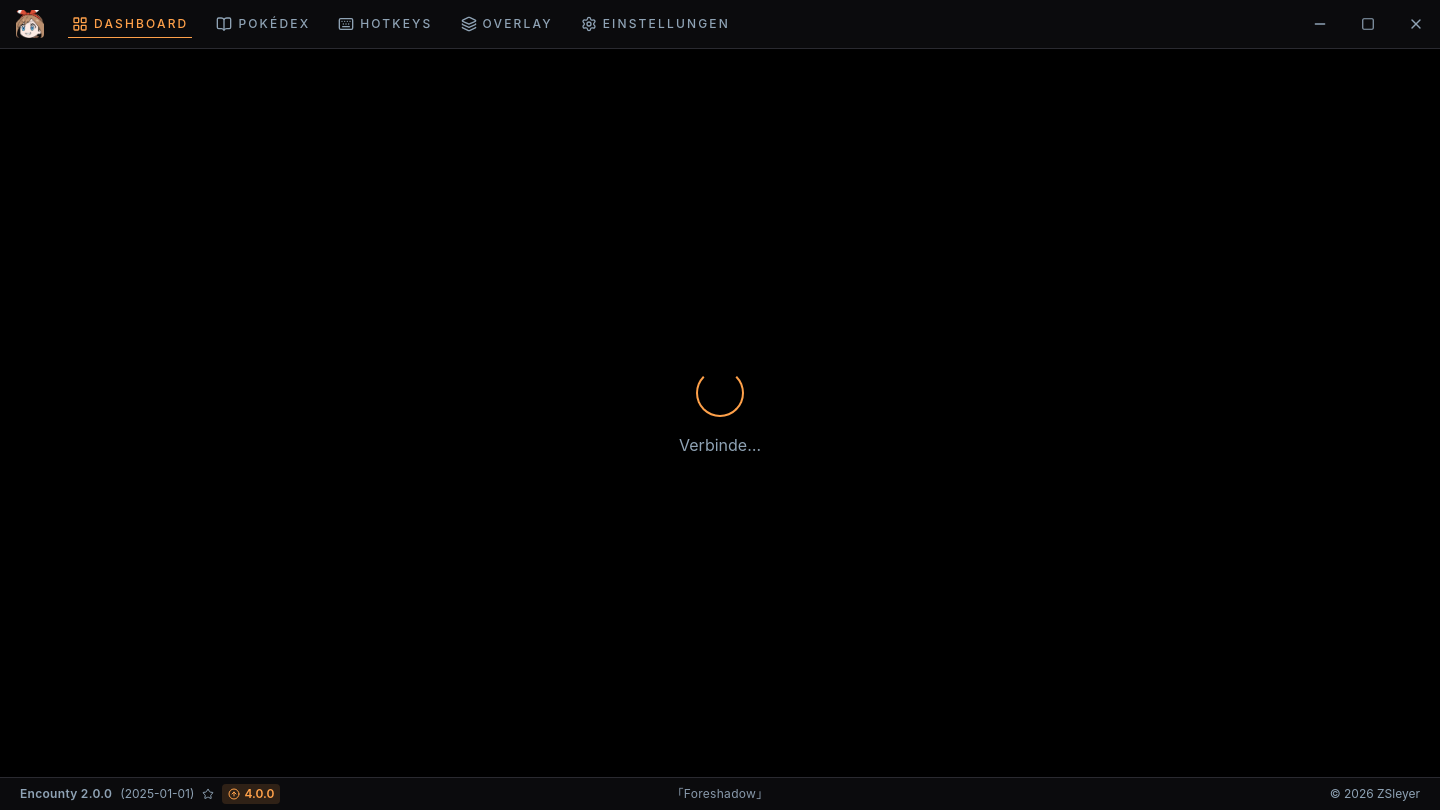
Test: App › renders UpdateOverlay with downloading state text
This screenshot has width=1440, height=810.
Click the button "4.0.0": point(251, 794) x1=222 y1=784 x2=280 y2=804
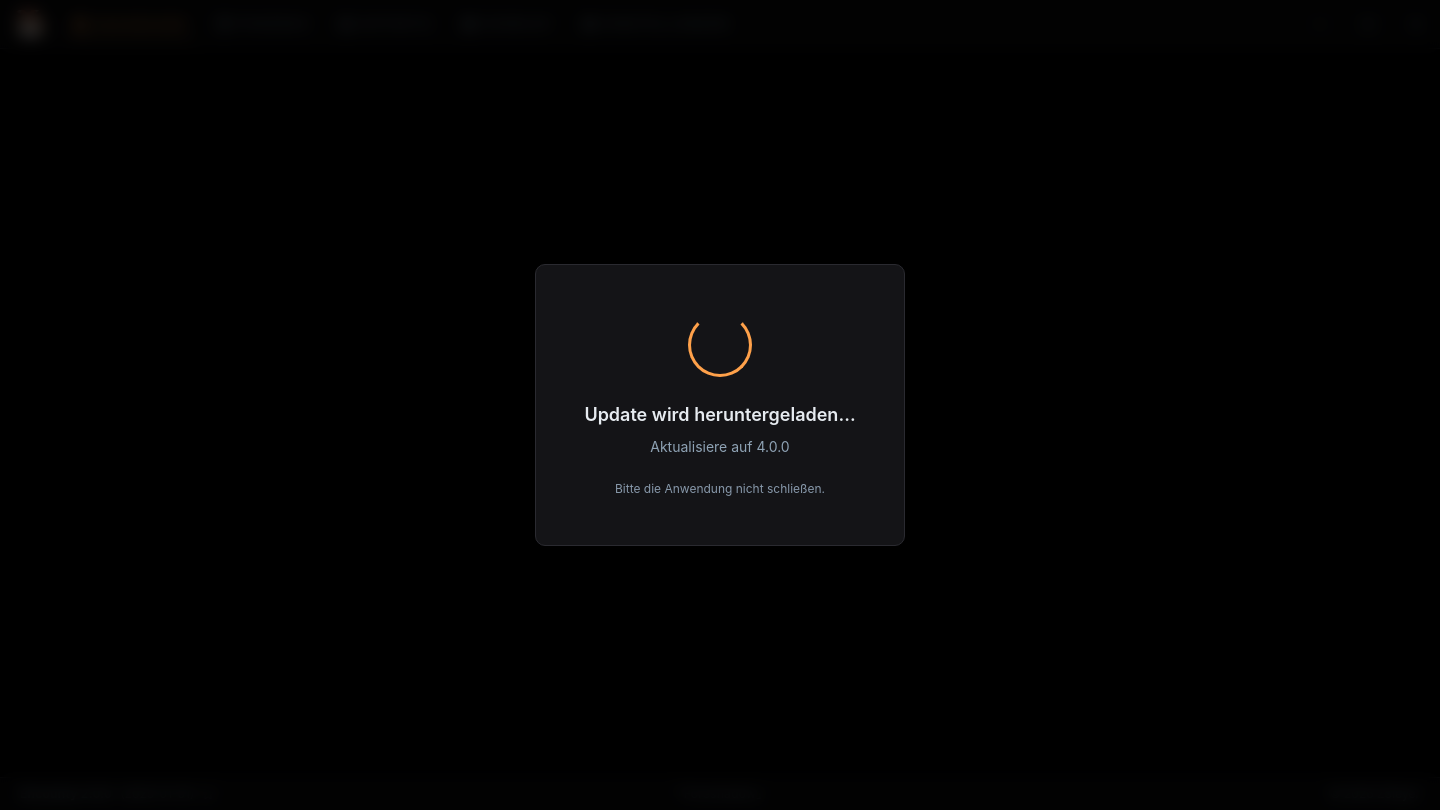
expect the text "Update wird heruntergeladen" is shown: met, box x1=584 y1=404 x2=856 y2=425
